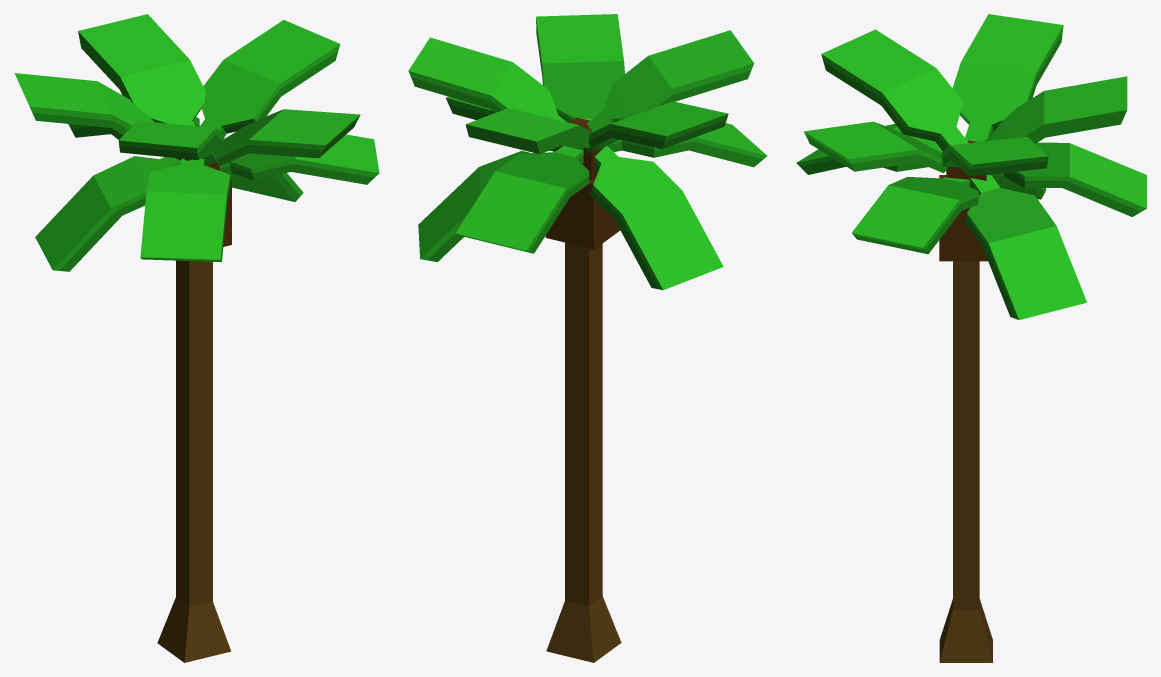
Rendered from palmtree3.fbx.
3 views of the same model, side by side, from view 1: azimuth 30°, elevation 25°; view 2: azimuth 150°, elevation 25°; view 3: azimuth 270°, elevation 25° (orthographic). The views are drawn at different scales.
Parts seen in each view (by area): view 1: palmtree3; view 2: palmtree3; view 3: palmtree3.
Part boxes in pixels (bbox=[...]): palmtree3: bbox=[14, 14, 379, 662]; palmtree3: bbox=[408, 14, 767, 662]; palmtree3: bbox=[796, 14, 1146, 662].
Size of the model in its own units: 924 by 1615 by 912.
Materials: 1 (1 with a texture image).
